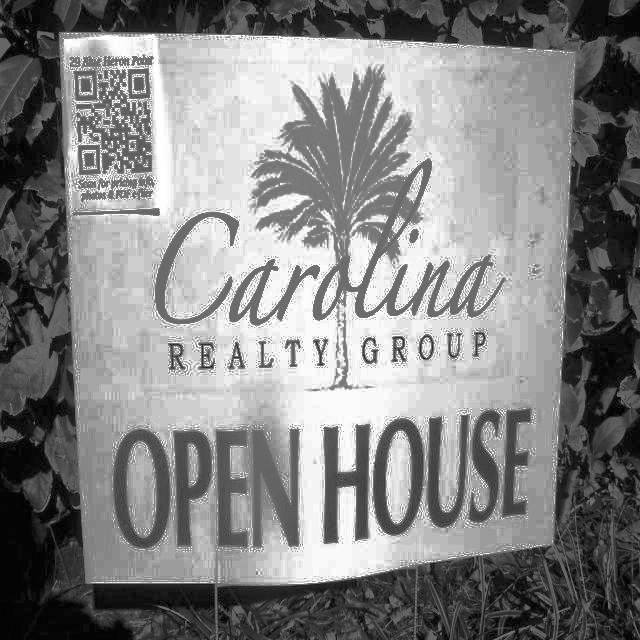qr_code: (75, 70, 152, 174)
